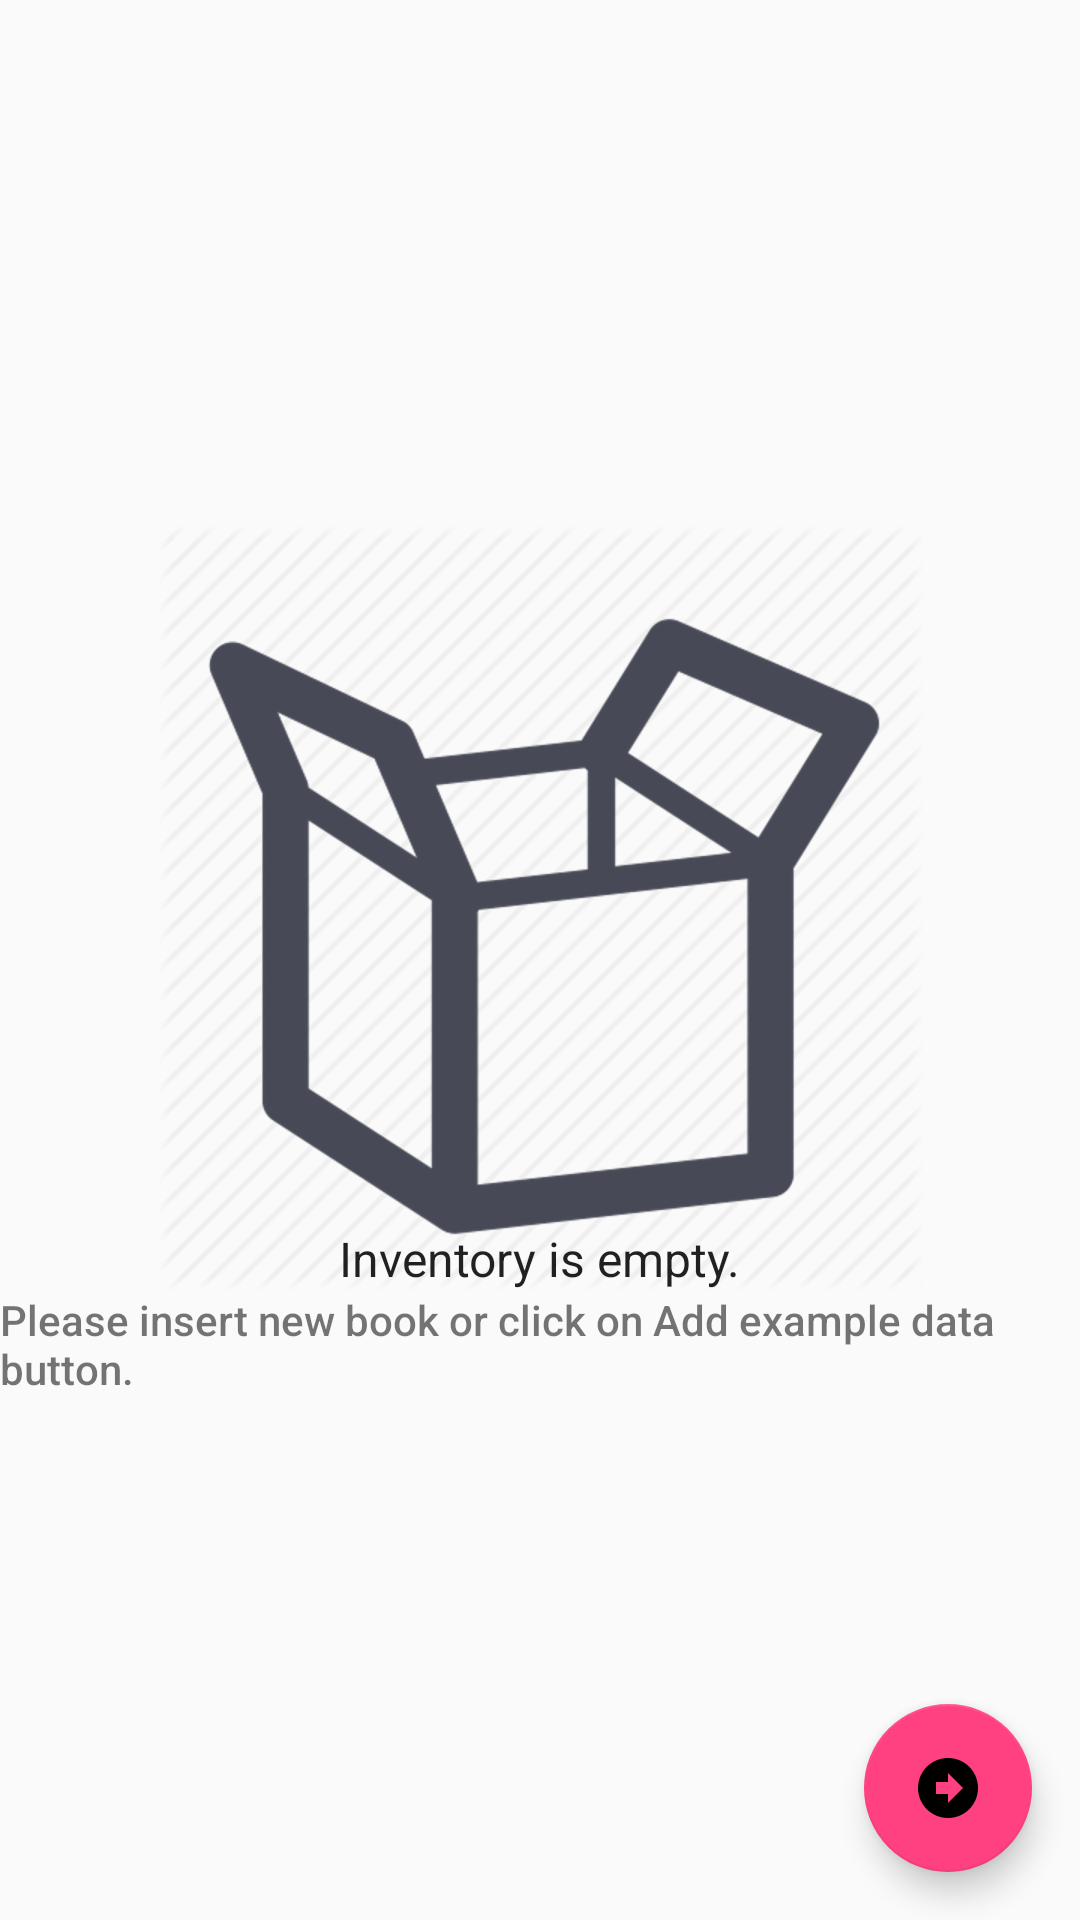

Icons on this 1080 x 1920 Android screen, each with the point to tap as point (x, y):
arrow right circle: point (948, 1788)
